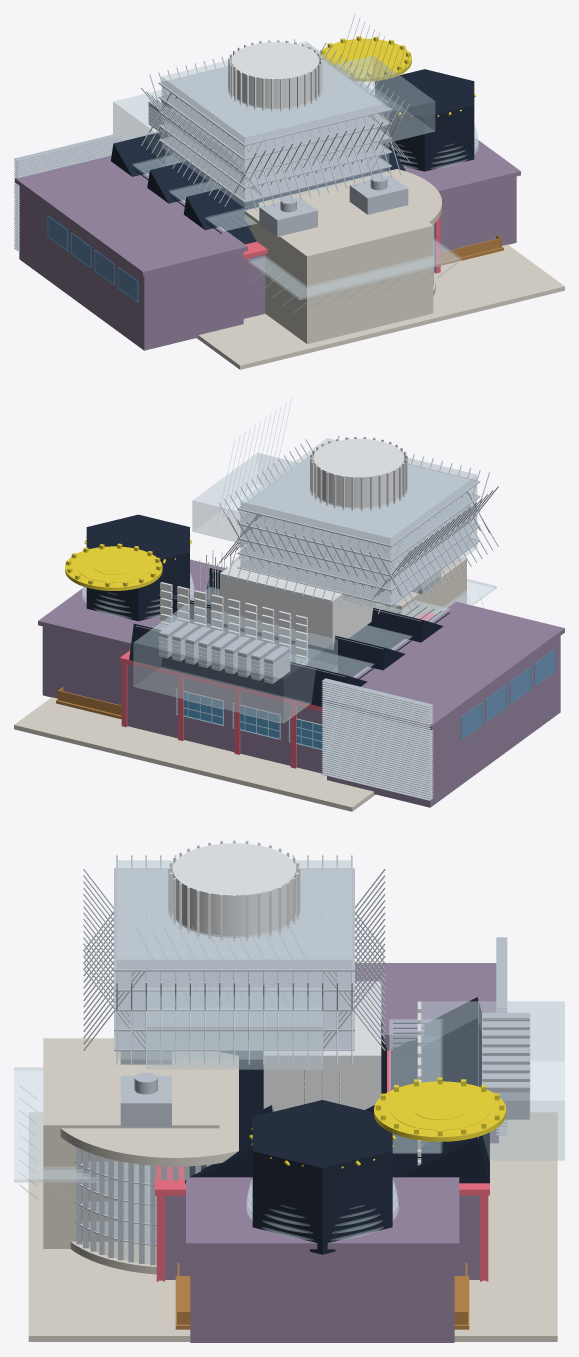
The model's file is hq_04_design_l7.glb.
3 renders of one model, top to bottom at view 1: azimuth 30°, elevation 25°; view 2: azimuth 150°, elevation 25°; view 3: azimuth 270°, elevation 25°, orthographic. The views are drawn at different scales.
Parts seen in each view (by area): view 1: GEO_FullScale_1_to_1_Clay_Hall, GEO_Parametric_Voronoi_Exoskeleton, GEO_Design_Review_Theater, GEO_Cantilevered_Design_Cube, GEO_Plinth_Foundation, GEO_VR_Immersive_Cave_Shell, GEO_CAS_Digital_Styling_Wing, GEO_Sawtooth_Roof_Slopes, GEO_NeuroAesthetic_Research_Pod, GEO_Executive_Observation_Skybridge, GEO_Theater_Rooftop_HVAC, GEO_Voronoi_Entrance_Canopy (+10 smaller); view 2: GEO_Parametric_Voronoi_Exoskeleton, GEO_FullScale_1_to_1_Clay_Hall, GEO_Cantilevered_Design_Cube, GEO_ClassA_Surfacing_Curtain_Wall, GEO_Plinth_Foundation, GEO_Architectural_Sunshade_Louvers, GEO_Design_Studio_Brick_Hall, GEO_Sawtooth_Roof_Slopes, GEO_CAS_Digital_Styling_Wing, GEO_Sustainable_Materials_Atrium, GEO_NeuroAesthetic_Research_Pod, GEO_VR_Immersive_Cave_Shell (+13 smaller); view 3: GEO_Parametric_Voronoi_Exoskeleton, GEO_CAS_Digital_Styling_Wing, GEO_Plinth_Foundation, GEO_Cantilevered_Design_Cube, GEO_VR_Immersive_Cave_Shell, GEO_Design_Review_Theater, GEO_Executive_Observation_Skybridge, GEO_ClassA_Surfacing_Curtain_Wall, GEO_Sawtooth_Roof_Slopes, GEO_NeuroAesthetic_Research_Pod, GEO_Reveal_Rotunda_Structure, GEO_Sustainable_Materials_Atrium (+13 smaller).
Boxes of the visible parts, box(x1,y1,x2,y2) form: GEO_FullScale_1_to_1_Clay_Hall: box(15, 155, 247, 350); GEO_Parametric_Voronoi_Exoskeleton: box(141, 39, 409, 210); GEO_Design_Review_Theater: box(244, 185, 433, 344); GEO_Cantilevered_Design_Cube: box(161, 41, 389, 208); GEO_Plinth_Foundation: box(197, 244, 564, 369); GEO_VR_Immersive_Cave_Shell: box(375, 69, 474, 171); GEO_CAS_Digital_Styling_Wing: box(404, 138, 520, 252); GEO_Sawtooth_Roof_Slopes: box(111, 131, 405, 244); GEO_NeuroAesthetic_Research_Pod: box(228, 40, 322, 111); GEO_Executive_Observation_Skybridge: box(333, 14, 435, 143); GEO_Theater_Rooftop_HVAC: box(259, 174, 408, 237); GEO_Voronoi_Entrance_Canopy: box(247, 238, 461, 312); GEO_Parametric_Voronoi_Exoskeleton: box(219, 435, 498, 614); GEO_FullScale_1_to_1_Clay_Hall: box(322, 601, 564, 807); GEO_Cantilevered_Design_Cube: box(240, 438, 477, 611); GEO_ClassA_Surfacing_Curtain_Wall: box(133, 603, 337, 723); GEO_Plinth_Foundation: box(14, 697, 375, 811); GEO_Architectural_Sunshade_Louvers: box(321, 678, 433, 800); GEO_Design_Studio_Brick_Hall: box(127, 664, 322, 773); GEO_Sawtooth_Roof_Slopes: box(129, 568, 449, 706); GEO_CAS_Digital_Styling_Wing: box(38, 559, 226, 705); GEO_Sustainable_Materials_Atrium: box(199, 550, 376, 649); GEO_NeuroAesthetic_Research_Pod: box(310, 436, 407, 510); GEO_VR_Immersive_Cave_Shell: box(86, 514, 189, 621); GEO_Parametric_Voronoi_Exoskeleton: box(83, 855, 385, 1064); GEO_CAS_Digital_Styling_Wing: box(186, 1177, 459, 1342); GEO_Plinth_Foundation: box(28, 1112, 557, 1341); GEO_Cantilevered_Design_Cube: box(117, 860, 351, 1059); GEO_VR_Immersive_Cave_Shell: box(252, 1100, 392, 1254); GEO_Design_Review_Theater: box(43, 1038, 219, 1248); GEO_Executive_Observation_Skybridge: box(136, 926, 339, 1069); GEO_ClassA_Surfacing_Curtain_Wall: box(418, 1001, 564, 1160); GEO_Sawtooth_Roof_Slopes: box(185, 997, 489, 1183); GEO_NeuroAesthetic_Research_Pod: box(168, 840, 300, 941); GEO_Reveal_Rotunda_Structure: box(60, 1052, 238, 1274); GEO_Sustainable_Materials_Atrium: box(263, 981, 381, 1111).
Size of what is drawn, in the model's own units: 43.8 by 25.14 by 37.5.
